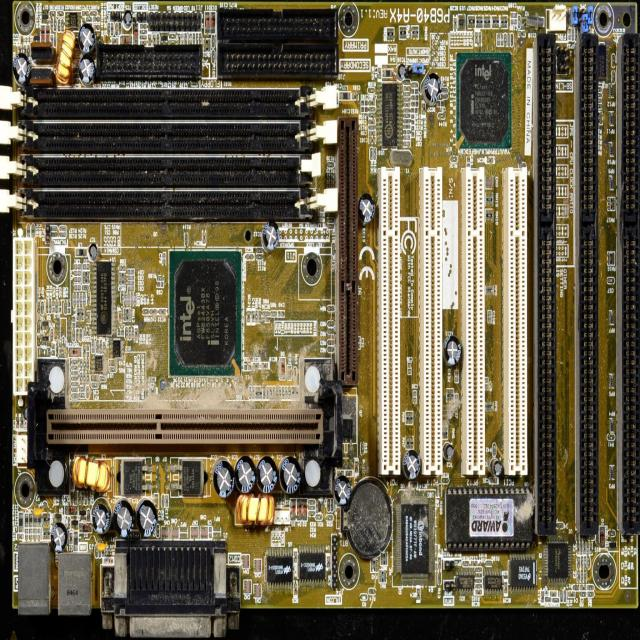Capacitor: (18, 512, 24, 531), (40, 27, 45, 42), (154, 492, 158, 510), (22, 46, 27, 60), (496, 32, 501, 46), (251, 307, 255, 324), (518, 29, 526, 37), (287, 364, 291, 380), (50, 34, 54, 48), (165, 493, 169, 507), (156, 524, 160, 538), (208, 525, 212, 539), (568, 589, 576, 596), (360, 106, 368, 113), (368, 137, 376, 144), (46, 28, 50, 42), (90, 373, 98, 380), (402, 141, 411, 147), (24, 513, 28, 526), (37, 513, 41, 526), (68, 531, 72, 544), (58, 299, 62, 312), (509, 11, 516, 18), (149, 308, 156, 315), (37, 528, 41, 540), (470, 559, 478, 565), (360, 100, 368, 106), (81, 10, 89, 16), (368, 130, 376, 136), (402, 134, 410, 140), (158, 309, 166, 315), (488, 310, 492, 322), (91, 341, 95, 353), (109, 359, 117, 365), (402, 129, 411, 134), (102, 544, 105, 558), (368, 100, 375, 106), (437, 100, 444, 106), (510, 19, 517, 25), (83, 263, 90, 269), (607, 276, 614, 282), (278, 310, 285, 316), (368, 107, 376, 112), (368, 119, 376, 124), (156, 281, 164, 286), (18, 45, 21, 58), (111, 23, 114, 36), (541, 590, 544, 602), (162, 252, 165, 264), (128, 268, 134, 274), (74, 269, 80, 275), (128, 274, 134, 280), (74, 276, 80, 282), (128, 280, 134, 286), (52, 300, 55, 312), (504, 34, 507, 46), (74, 263, 81, 268), (467, 156, 470, 167), (118, 265, 126, 269), (128, 286, 134, 291), (30, 527, 32, 541), (501, 32, 503, 46), (34, 513, 36, 526), (30, 513, 32, 526), (26, 527, 28, 540), (54, 35, 56, 47), (34, 528, 36, 540), (68, 300, 70, 312)
Connector: (574, 35, 600, 533), (616, 34, 640, 533), (18, 186, 313, 223), (535, 32, 556, 536), (45, 409, 325, 444), (20, 89, 311, 122), (19, 125, 312, 157), (15, 158, 318, 188), (417, 167, 443, 475), (501, 168, 527, 474), (460, 167, 484, 474), (378, 166, 399, 477), (337, 116, 358, 385), (216, 44, 338, 80), (218, 9, 338, 42), (97, 44, 201, 80)
IC: (168, 249, 242, 379), (446, 487, 536, 550), (456, 53, 511, 148), (393, 489, 436, 586), (92, 260, 115, 336), (377, 82, 401, 148), (543, 535, 573, 586), (298, 544, 327, 586), (509, 552, 537, 593), (266, 548, 293, 587), (484, 568, 503, 594), (456, 569, 474, 593), (110, 338, 125, 360), (65, 11, 81, 30), (92, 356, 105, 372), (457, 14, 465, 31), (608, 142, 615, 156), (608, 83, 614, 98), (608, 111, 614, 125)
Resistor Network: (38, 346, 50, 356), (36, 320, 40, 336), (368, 586, 377, 593), (74, 489, 78, 504), (98, 543, 102, 558), (70, 490, 74, 504), (586, 554, 590, 568), (437, 112, 445, 119), (120, 291, 124, 305), (82, 292, 86, 306), (86, 292, 90, 306), (37, 301, 41, 315), (124, 326, 128, 340), (606, 434, 615, 440), (474, 581, 483, 587), (359, 593, 368, 599), (50, 231, 59, 237), (589, 541, 593, 554), (60, 19, 64, 32), (107, 23, 111, 36), (86, 310, 90, 323), (86, 344, 90, 357), (82, 345, 86, 358), (86, 358, 90, 371), (54, 344, 59, 354), (74, 284, 81, 291), (142, 307, 149, 314), (327, 319, 334, 326), (441, 477, 449, 483), (161, 493, 164, 509), (326, 513, 334, 519), (576, 542, 580, 554), (580, 555, 584, 567), (576, 556, 580, 568), (462, 560, 470, 566), (474, 566, 482, 572), (474, 571, 482, 577), (580, 569, 584, 581), (438, 572, 442, 584), (579, 590, 587, 596), (440, 93, 448, 99), (410, 107, 418, 113), (450, 156, 458, 162), (139, 23, 147, 29), (81, 284, 89, 290), (118, 23, 122, 35), (262, 310, 270, 316), (118, 310, 122, 322), (70, 358, 78, 364), (71, 364, 79, 370), (410, 94, 419, 99), (402, 113, 411, 118), (402, 118, 411, 123), (370, 146, 373, 161), (73, 292, 76, 307), (46, 299, 49, 314), (258, 309, 261, 324), (50, 327, 53, 342), (139, 35, 148, 40), (152, 33, 156, 44), (326, 498, 329, 512), (331, 497, 334, 511), (608, 530, 615, 536), (596, 527, 599, 541), (485, 559, 492, 565), (572, 584, 579, 590), (411, 100, 418, 106), (49, 18, 52, 32), (93, 24, 100, 30), (80, 293, 83, 307), (41, 300, 44, 314), (328, 304, 334, 311), (72, 314, 75, 328), (328, 346, 335, 352), (100, 376, 107, 382), (474, 578, 484, 582), (402, 91, 410, 96), (368, 112, 376, 117), (90, 10, 98, 15), (402, 124, 410, 129), (368, 125, 376, 130), (256, 254, 264, 259), (156, 275, 164, 280), (138, 30, 148, 34), (84, 330, 92, 335), (168, 34, 176, 39), (70, 371, 78, 376), (91, 382, 99, 387), (156, 34, 160, 44), (192, 34, 196, 44), (78, 490, 81, 503), (88, 491, 91, 504), (95, 544, 98, 557), (373, 147, 376, 160), (58, 19, 61, 32), (115, 23, 118, 36), (131, 326, 134, 339), (294, 367, 297, 380), (86, 372, 89, 385), (583, 542, 586, 554), (580, 542, 583, 554), (583, 555, 586, 567), (402, 102, 411, 106), (402, 108, 411, 112), (518, 16, 521, 28), (50, 226, 59, 230), (185, 233, 188, 245), (271, 310, 277, 316), (121, 322, 124, 334), (328, 328, 334, 334), (328, 339, 334, 345), (83, 359, 86, 371), (70, 376, 79, 380), (80, 372, 83, 384), (510, 34, 513, 46), (587, 584, 594, 589), (403, 86, 410, 91), (256, 248, 263, 253), (71, 393, 78, 398), (168, 40, 176, 44), (308, 505, 316, 509), (440, 88, 448, 92), (410, 89, 418, 93), (402, 97, 410, 101), (77, 292, 79, 308), (109, 367, 117, 371), (71, 382, 79, 386), (309, 499, 315, 504), (316, 514, 322, 519), (580, 584, 586, 589), (588, 591, 594, 596), (96, 339, 98, 354), (198, 34, 201, 44), (189, 34, 192, 44), (185, 34, 188, 44), (82, 490, 84, 504), (308, 511, 315, 515), (403, 80, 410, 84), (411, 83, 418, 87), (49, 12, 56, 16), (93, 17, 100, 21), (60, 227, 67, 231), (59, 232, 66, 236), (54, 18, 56, 32), (64, 301, 66, 315), (100, 339, 102, 353), (212, 35, 214, 48), (85, 490, 87, 503), (128, 326, 130, 339), (76, 327, 78, 340), (508, 33, 510, 46), (80, 392, 85, 397), (586, 542, 588, 554), (57, 12, 63, 16), (49, 300, 51, 312), (55, 300, 57, 312), (256, 310, 258, 322), (72, 328, 74, 340), (80, 358, 82, 370), (72, 387, 78, 391), (87, 386, 89, 398), (212, 52, 214, 63), (584, 570, 586, 581), (118, 324, 120, 335), (80, 329, 82, 340), (196, 33, 198, 44), (577, 570, 579, 580), (87, 18, 92, 22), (182, 34, 184, 44), (80, 387, 85, 391), (104, 341, 105, 355), (84, 373, 85, 386)
Transistor: (115, 458, 152, 495), (54, 512, 62, 518)
